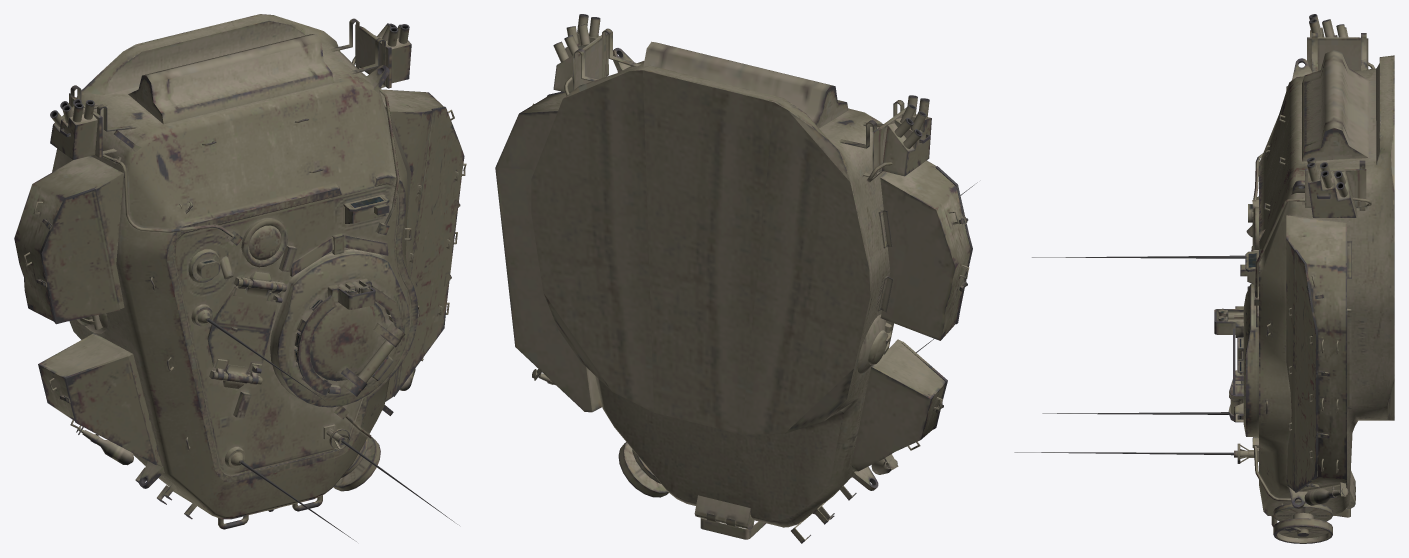
File: Turret_01.glb
3 views of the same model, side by side, from view 1: azimuth 30°, elevation 25°; view 2: azimuth 150°, elevation 25°; view 3: azimuth 270°, elevation 25° (orthographic). The views are drawn at different scales.
Visible parts, largest first — view 1: set_0_group_0; view 2: set_0_group_0; view 3: set_0_group_0.
Part boxes in pixels (x1,y1,x2,y2): set_0_group_0: (14, 14, 466, 541); set_0_group_0: (495, 14, 977, 543); set_0_group_0: (1014, 14, 1394, 543).
Size of the model in its own units: 3.37 by 3.24 by 2.71.
1 material, 1 textured.
